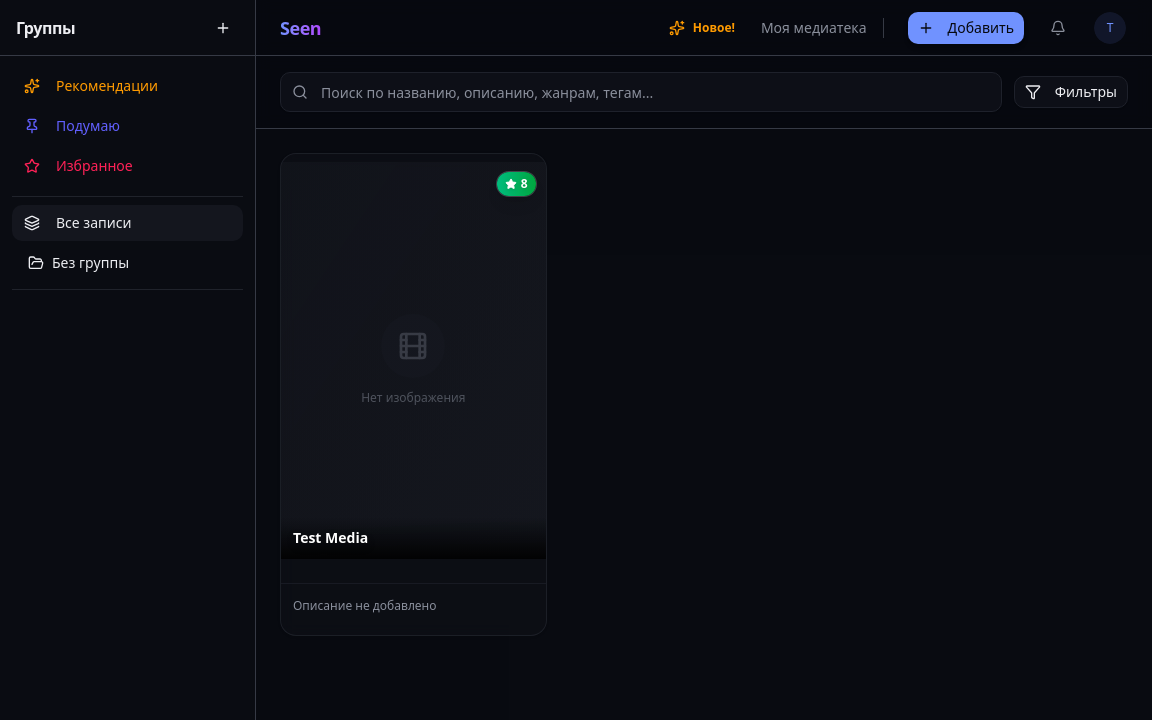
Test case: HomePage › should render homepage with user info
Note: Username живёт внутри дропдауна профиля — открываем меню
Click the button named "Меню пользователя" at (1110, 28), box [1092,10,1128,46]
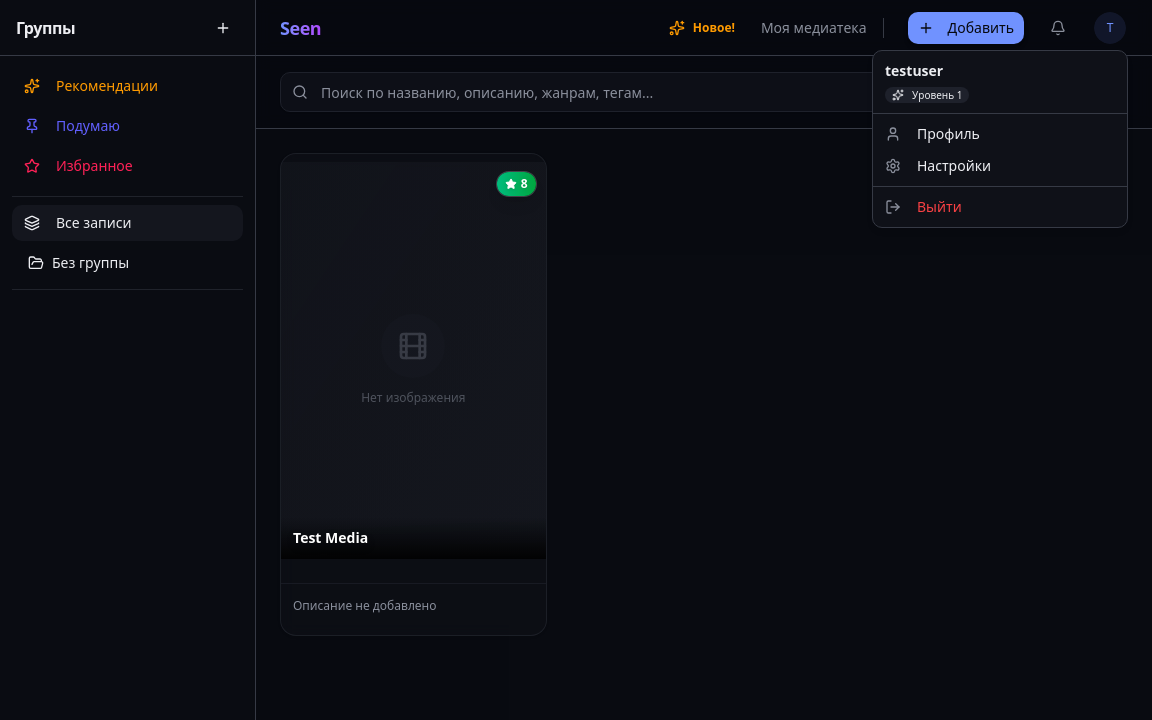
Expected: the text "testuser" is shown, [885,61,943,80]
